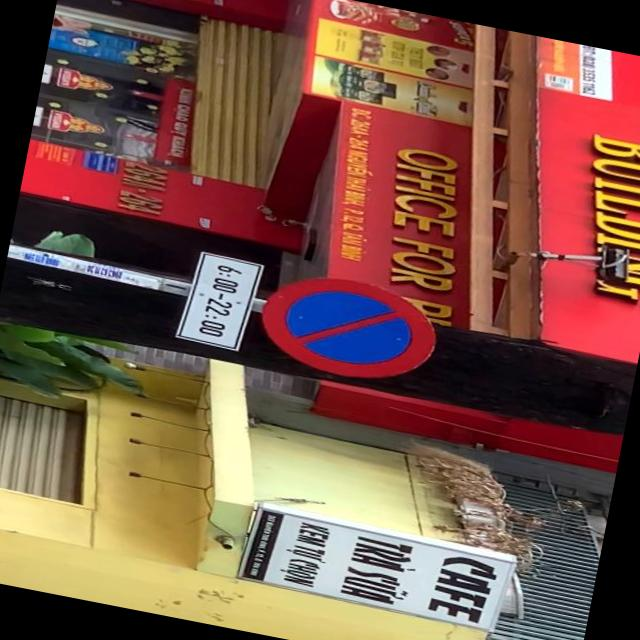P-131a: (251, 264, 445, 392)
